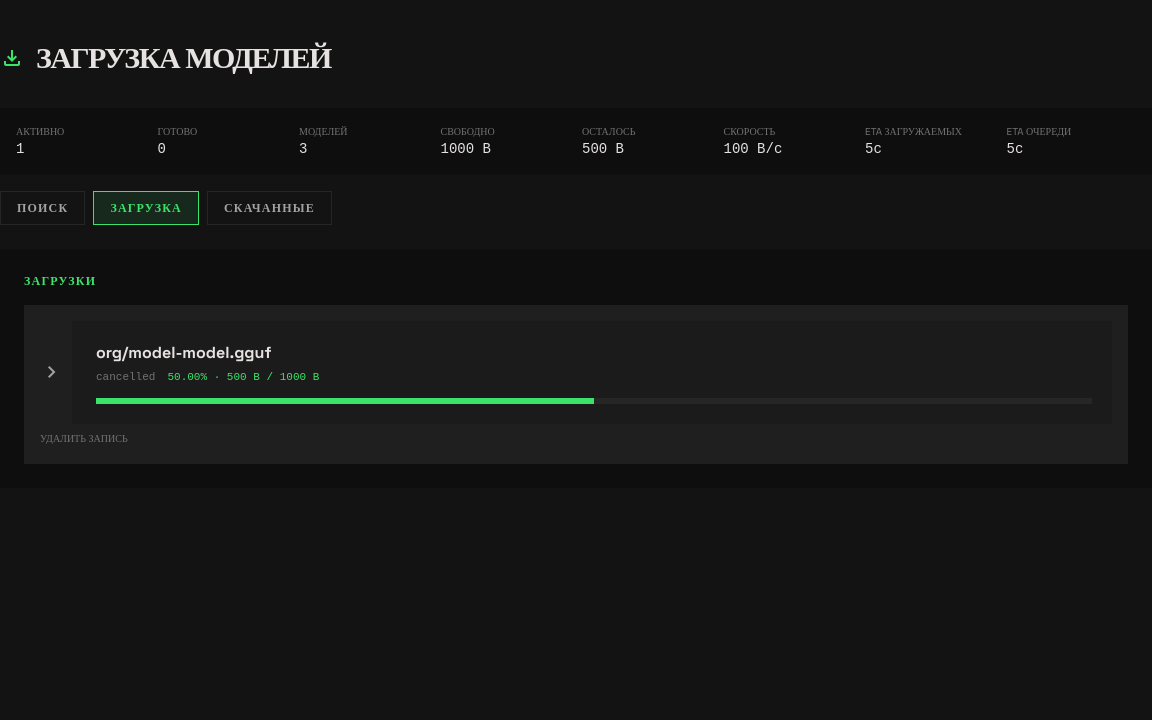
it: ModelDownloadsPage › после отменённой закачки карточка предлагает «Скачать», статус — «не скачано»
Click the button with test id "download-row-toggle" at coordinates (592, 372), box [72,321,1112,424]
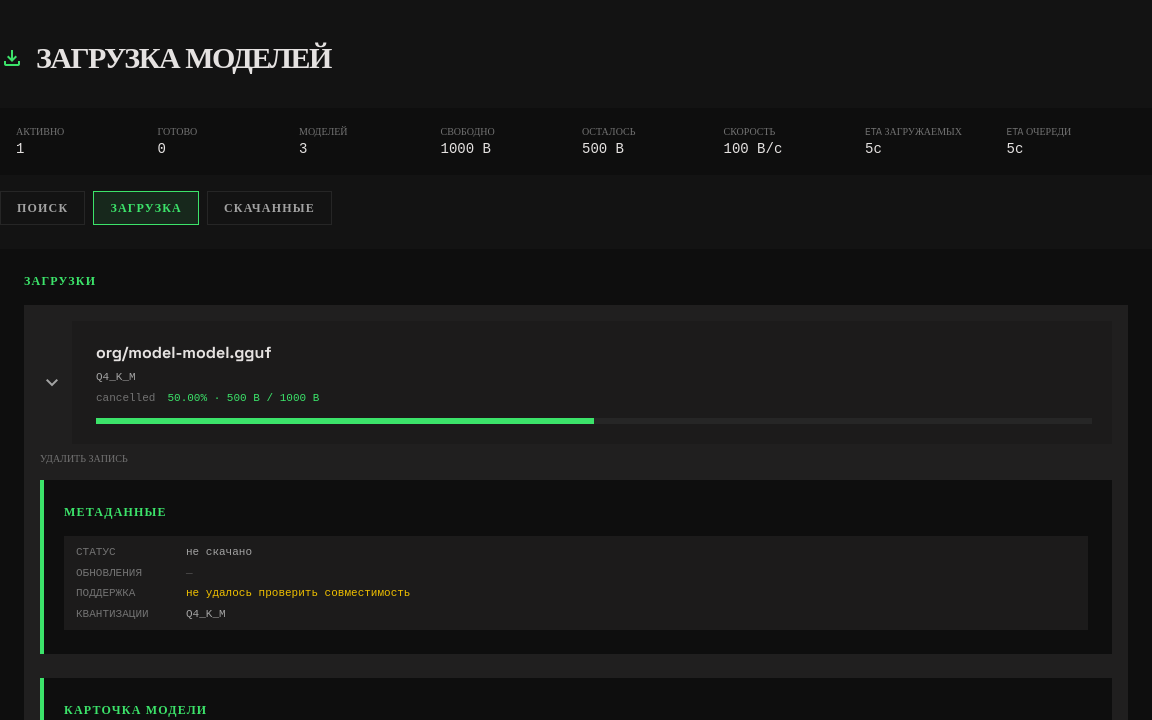
Check: the text with test id "meta-status" reads "не скачано", box [186,546,252,558]
